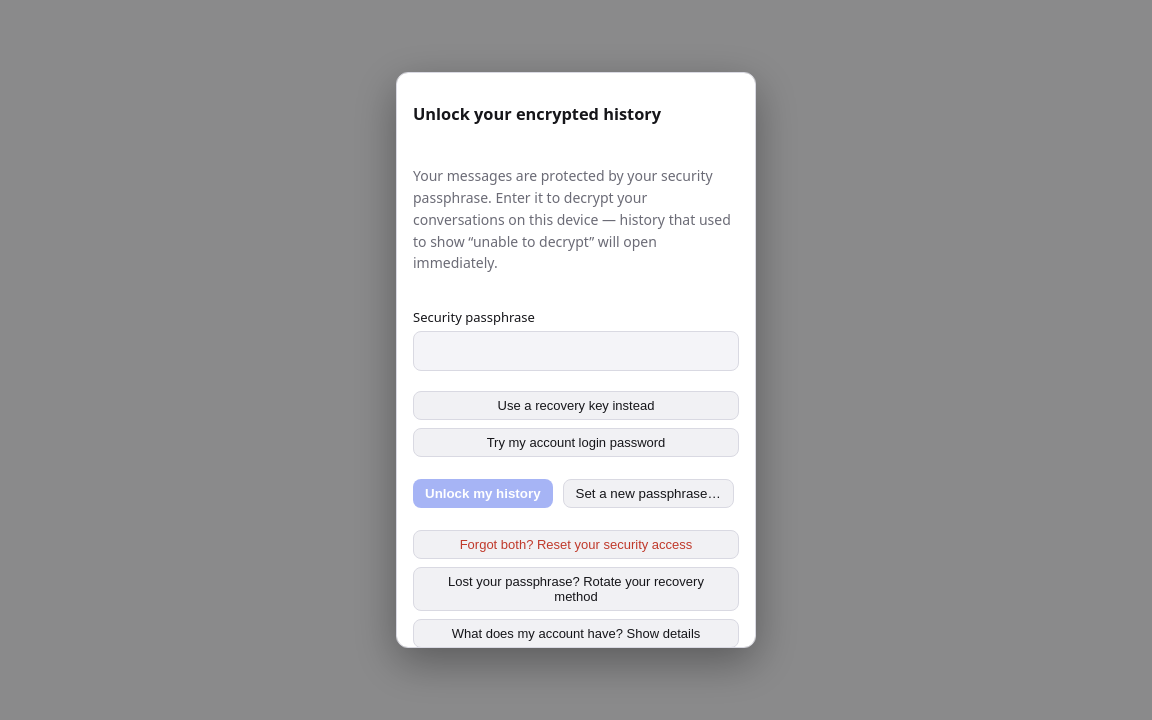
Scenario: W22 raw SDK crypto errors never surface (Sean prod: bad MAC verbatim in 0.2.4) › gate unlock error step shows the actionable copy instead of the raw bad-MAC string
Expected: the heading "Unlock your encrypted history" is shown, [413,103,661,125]
Type "stale key attempt" into the password field labelled "Security passphrase".
click(576, 351); type("stale key attempt")  # box [413,331,739,371]
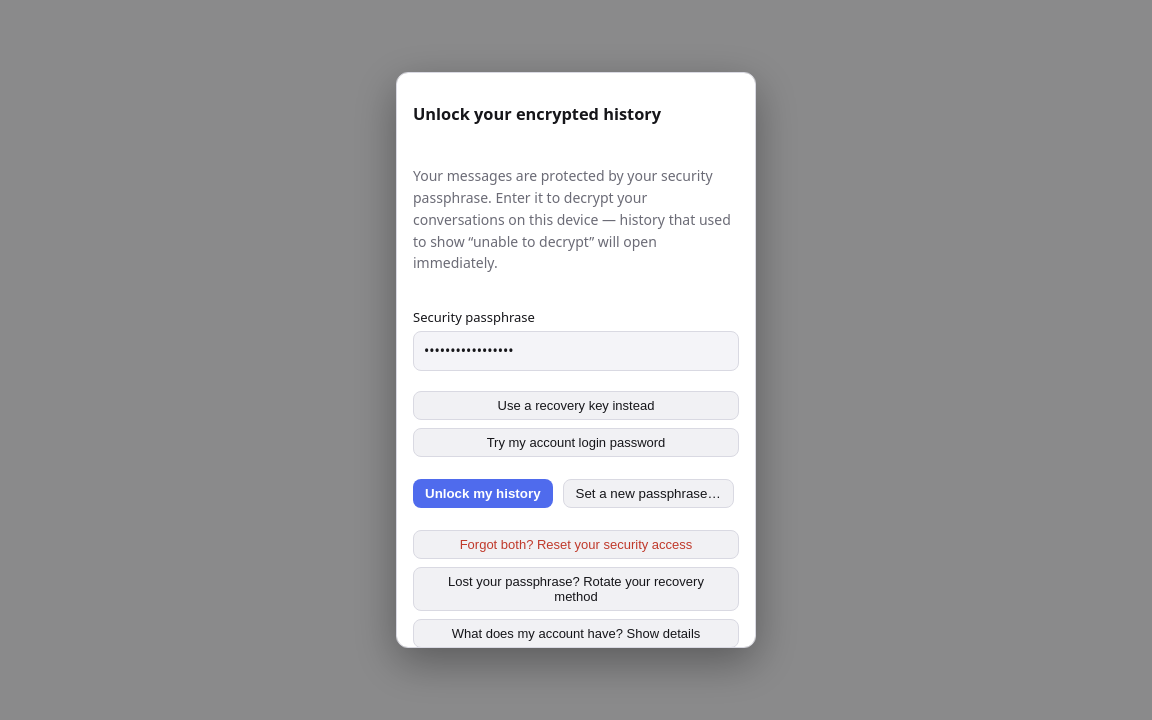
Click the button "Unlock my history".
click(483, 494)  # box [413,479,552,508]
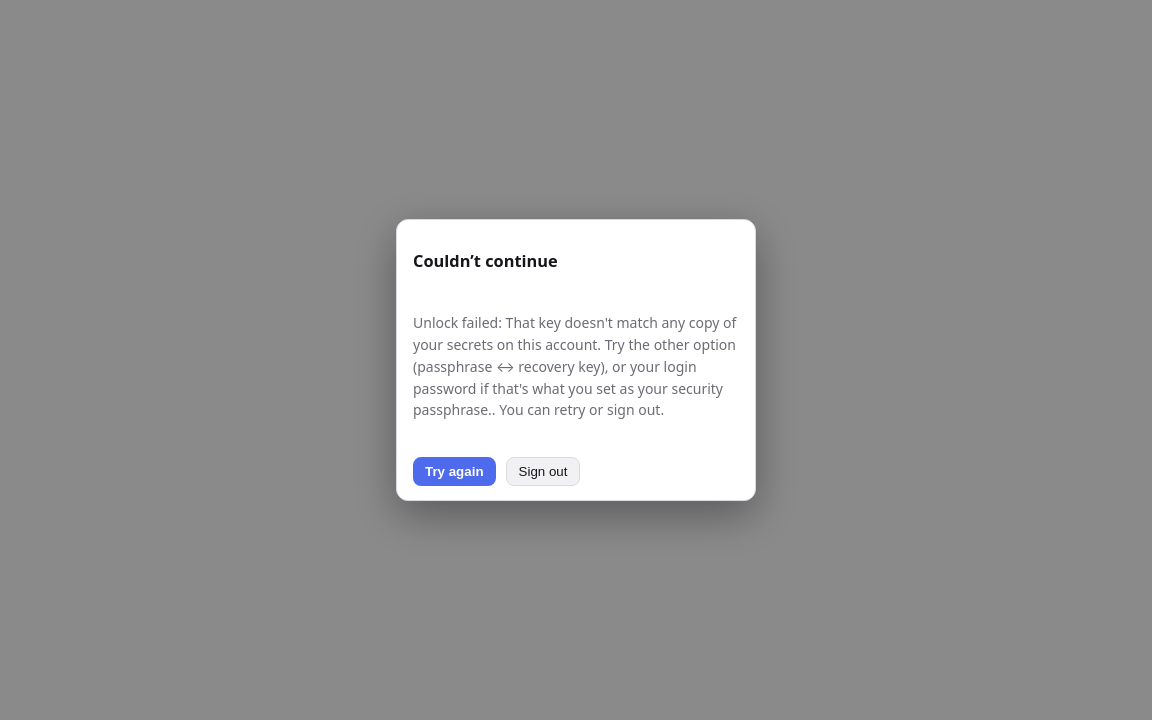
Result: the heading "Couldn’t continue" is shown at [413,250,558,272]
Result: the dialog with class "gate-dialog" shows "doesn't match any copy of your secrets" at [413,314,736,419]
